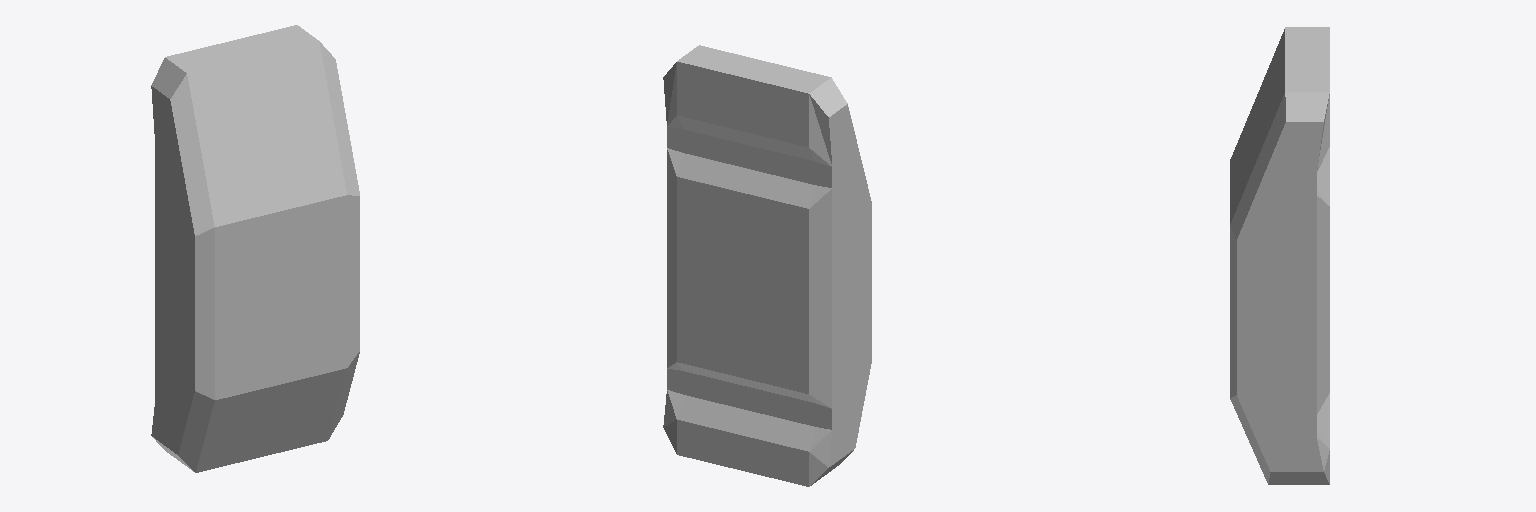
The model's file is CarBody.obj.
3 renders of one model, left to right at view 1: azimuth 30°, elevation 25°; view 2: azimuth 150°, elevation 25°; view 3: azimuth 270°, elevation 25°, orthographic.
Parts seen in each view (by area): view 1: CarBody; view 2: CarBody; view 3: CarBody.
Part boxes in pixels (x1,y1,x2,y2): CarBody: (151,25,359,472); CarBody: (663,45,871,486); CarBody: (1230,27,1329,484).
Size of the model in its own units: 2 by 4.54 by 1.05.